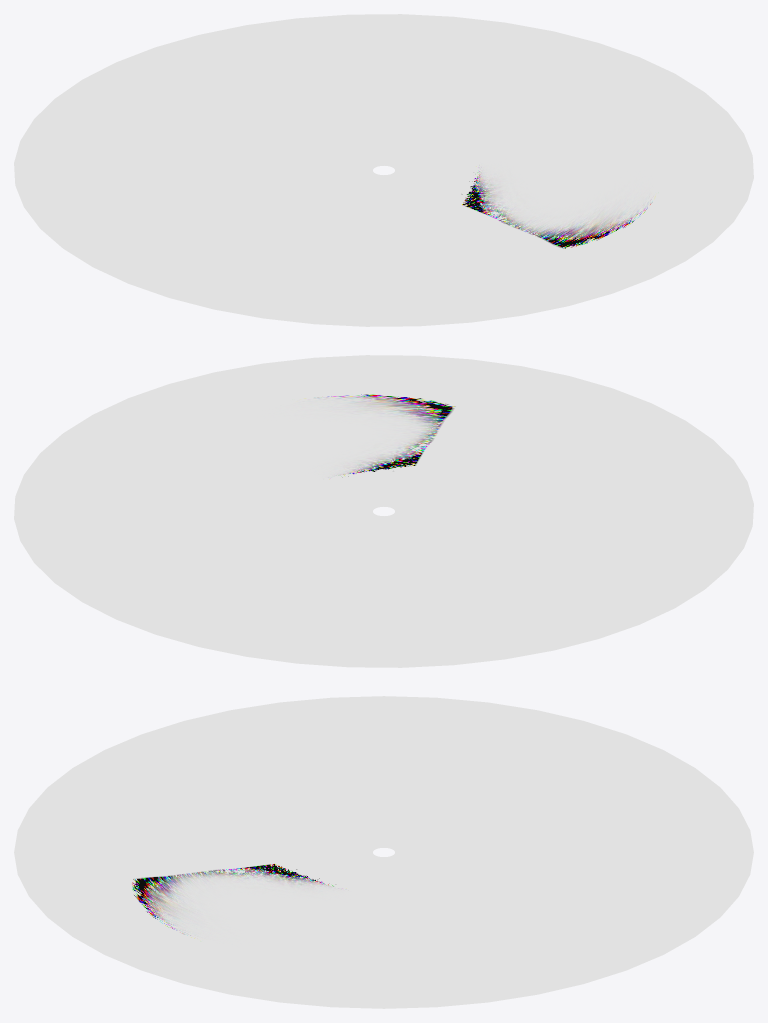
File: Common_MD_xiaoyuanpan.FBX
3 views of the same model, one above another, from view 1: azimuth 30°, elevation 25°; view 2: azimuth 150°, elevation 25°; view 3: azimuth 270°, elevation 25° (orthographic).
Parts seen in each view (by area): view 1: Plane001; view 2: Plane001; view 3: Plane001.
Boxes of the visible parts, bbox=[...] form: Plane001: bbox=[14, 14, 753, 326]; Plane001: bbox=[14, 355, 753, 667]; Plane001: bbox=[14, 696, 753, 1008].
Size of the model in its own units: 14.15 by 1.95e-06 by 14.15.
